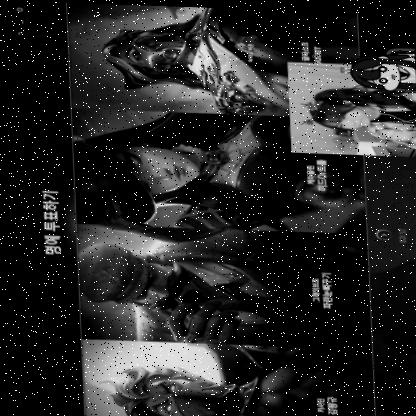streamer: (295, 79, 416, 146)
